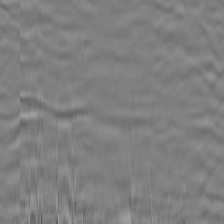cavities: (52, 125, 224, 223)
